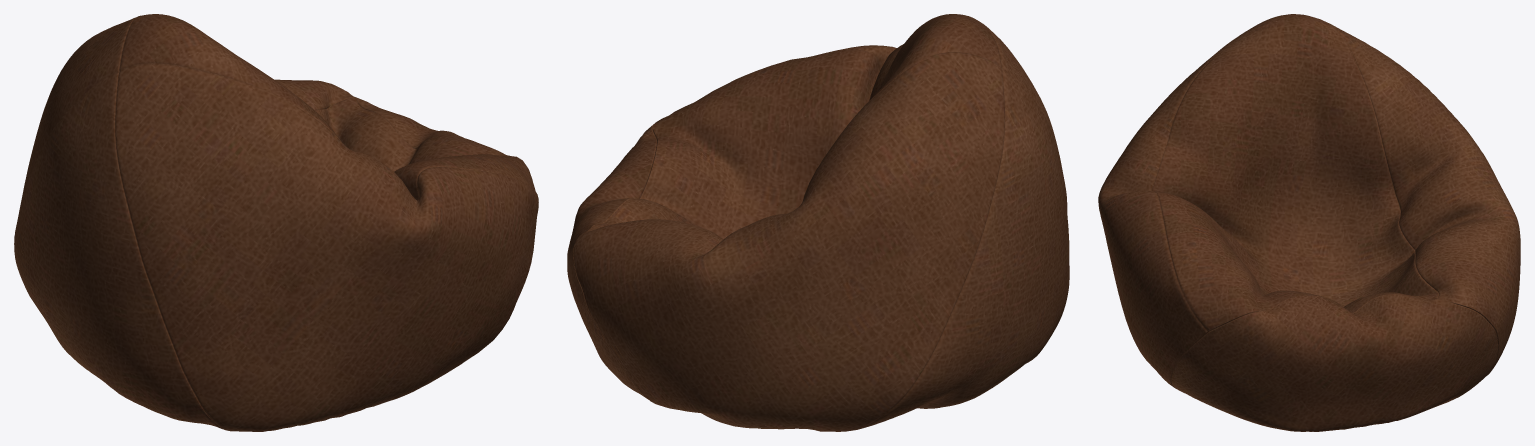
Rendered from beanbag.glb.
3 renders of one model, left to right at view 1: azimuth 30°, elevation 25°; view 2: azimuth 150°, elevation 25°; view 3: azimuth 270°, elevation 25°, orthographic. The views are drawn at different scales.
Visible parts, largest first — view 1: bean_bag_chair_mesh_n3d; view 2: bean_bag_chair_mesh_n3d; view 3: bean_bag_chair_mesh_n3d.
Boxes of the visible parts, <box> form: bean_bag_chair_mesh_n3d: <box>14,14,538,431</box>; bean_bag_chair_mesh_n3d: <box>567,14,1069,431</box>; bean_bag_chair_mesh_n3d: <box>1098,14,1520,431</box>.
Size of the model in its own units: 0.9655 by 0.7488 by 0.9834.
1 material, 1 textured.
